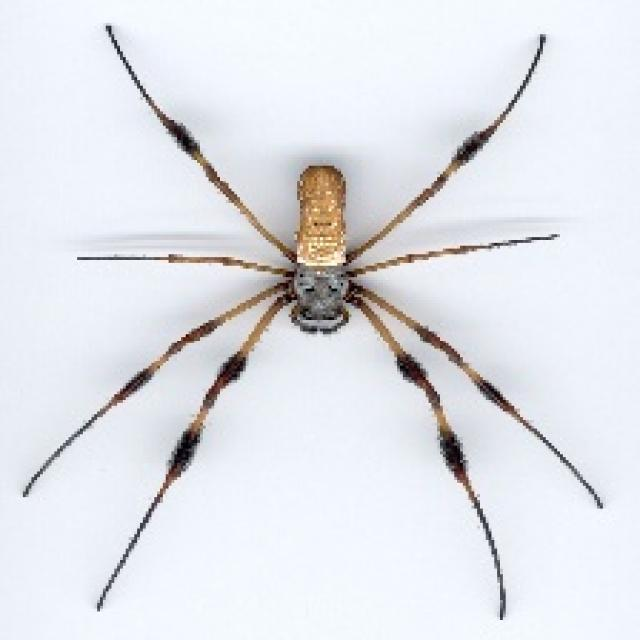Non venomous spider: (38, 5, 604, 622)
